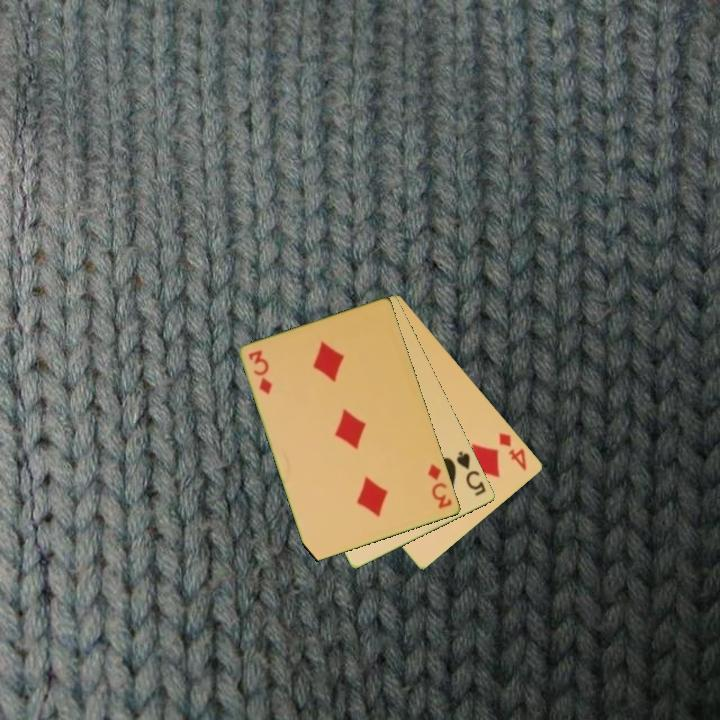3d: (424, 460, 455, 512), (245, 347, 275, 397)
4d: (496, 429, 530, 473)
5s: (453, 448, 489, 499)
